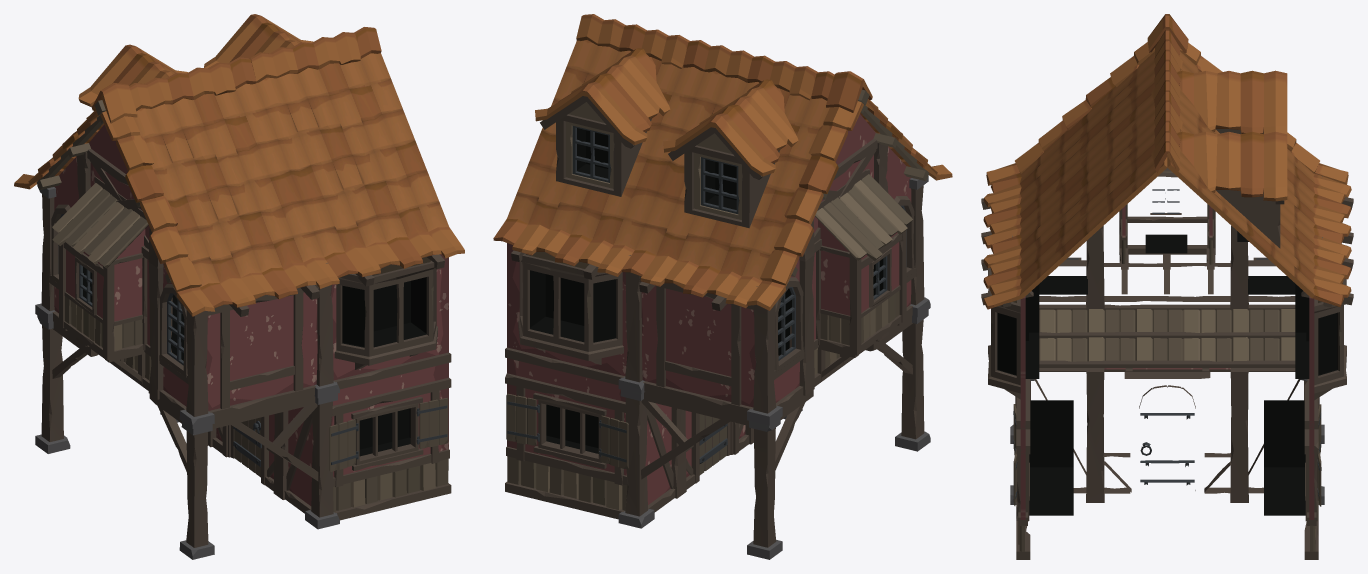
The model's file is SM_Bld_Preset_House_Archway_01_Wing_01_Optimized.glb.
3 views of the same model, side by side, from view 1: azimuth 30°, elevation 25°; view 2: azimuth 150°, elevation 25°; view 3: azimuth 270°, elevation 25° (orthographic). The views are drawn at different scales.
Parts seen in each view (by area): view 1: SM_Bld_Preset_House_Archway_01_Wing_01_Optimized; view 2: SM_Bld_Preset_House_Archway_01_Wing_01_Optimized; view 3: SM_Bld_Preset_House_Archway_01_Wing_01_Optimized.
Boxes of the visible parts, x1,y1,x2,y2 form: SM_Bld_Preset_House_Archway_01_Wing_01_Optimized: (14,14,464,559); SM_Bld_Preset_House_Archway_01_Wing_01_Optimized: (493,14,952,559); SM_Bld_Preset_House_Archway_01_Wing_01_Optimized: (981,14,1353,559).
Bounding box in the file's own units: 6.09 × 7.99 × 6.45.
Materials: 1 (1 with a texture image).
